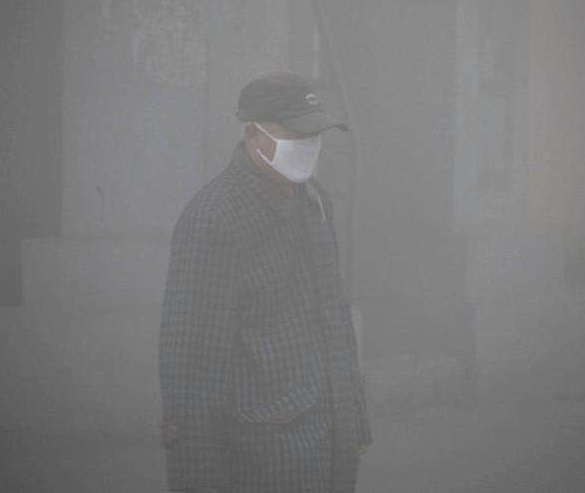person: (156, 71, 380, 493)
